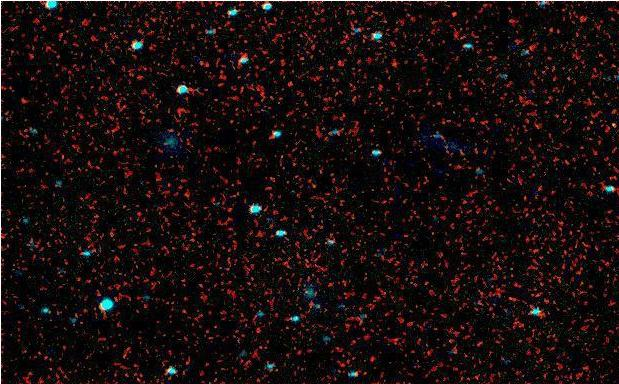star: (436, 2, 466, 32)
